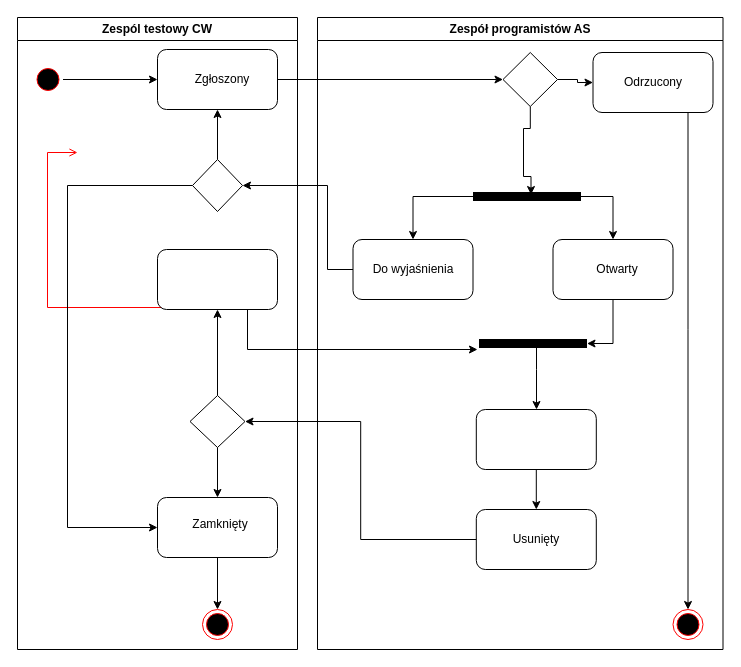
This 741x667 diagram has some shape labels left out. Here are the shapes that lost their labels. From the top down, the centre of each, then its label:
At (x=217, y=279): "Ponownie otwarty".
At (x=535, y=439): "Przydzielony".
